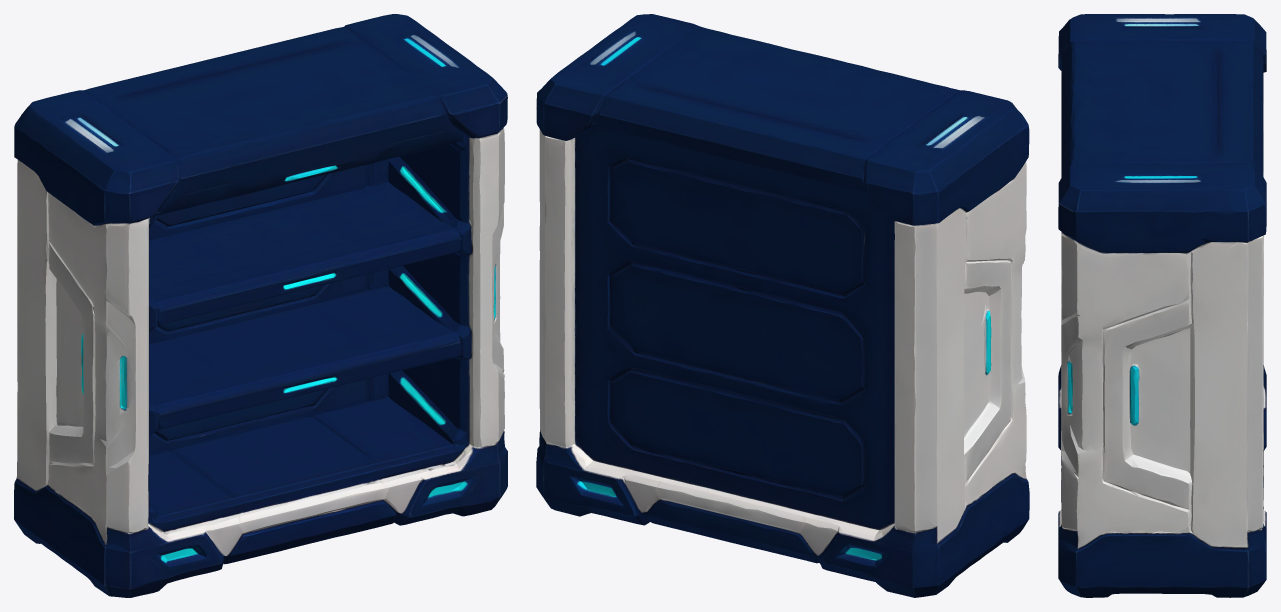
The model's file is RakGaming.fbx.
3 renders of one model, left to right at view 1: azimuth 30°, elevation 25°; view 2: azimuth 150°, elevation 25°; view 3: azimuth 270°, elevation 25°, orthographic. The views are drawn at different scales.
Visible parts, largest first — view 1: Mesh.006; view 2: Mesh.006; view 3: Mesh.006.
Part boxes in pixels (left/top/right/bottom): Mesh.006: left=14, top=14, right=507, bottom=597; Mesh.006: left=536, top=14, right=1029, bottom=597; Mesh.006: left=1058, top=14, right=1266, bottom=597.
Bounding box in the file's own units: 112 × 114 × 52.76.
1 material, 1 textured.
